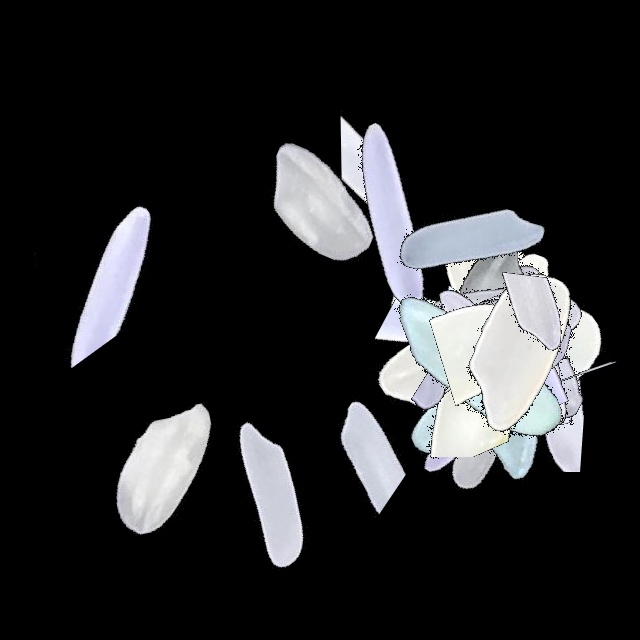Broken: (450, 210, 622, 460), (349, 315, 599, 487), (462, 240, 622, 490), (5, 135, 164, 385), (390, 262, 640, 416), (386, 325, 636, 472), (332, 312, 582, 457), (270, 320, 411, 570), (351, 274, 601, 407), (367, 230, 499, 480), (454, 215, 585, 465), (423, 282, 550, 532), (377, 287, 627, 410), (375, 225, 491, 475), (340, 16, 454, 266), (390, 329, 640, 443), (390, 316, 640, 428), (359, 289, 609, 398), (390, 291, 640, 393), (383, 211, 484, 461), (486, 262, 583, 512), (353, 333, 603, 429), (389, 297, 639, 391), (380, 292, 465, 542), (361, 316, 611, 399), (34, 174, 112, 424), (371, 296, 621, 372)
Full: (390, 212, 640, 462), (390, 192, 640, 442), (197, 79, 447, 329), (362, 291, 612, 541), (356, 231, 606, 481), (390, 236, 640, 486), (385, 216, 635, 466), (390, 249, 640, 499), (142, 370, 392, 620), (390, 204, 640, 454), (356, 235, 606, 485), (389, 222, 639, 472), (361, 184, 611, 434), (265, 93, 515, 343), (390, 244, 640, 494), (372, 263, 622, 513), (390, 220, 640, 470), (345, 117, 595, 367), (364, 203, 614, 453), (38, 344, 288, 594), (390, 209, 640, 459), (356, 240, 606, 490), (390, 222, 640, 472)
